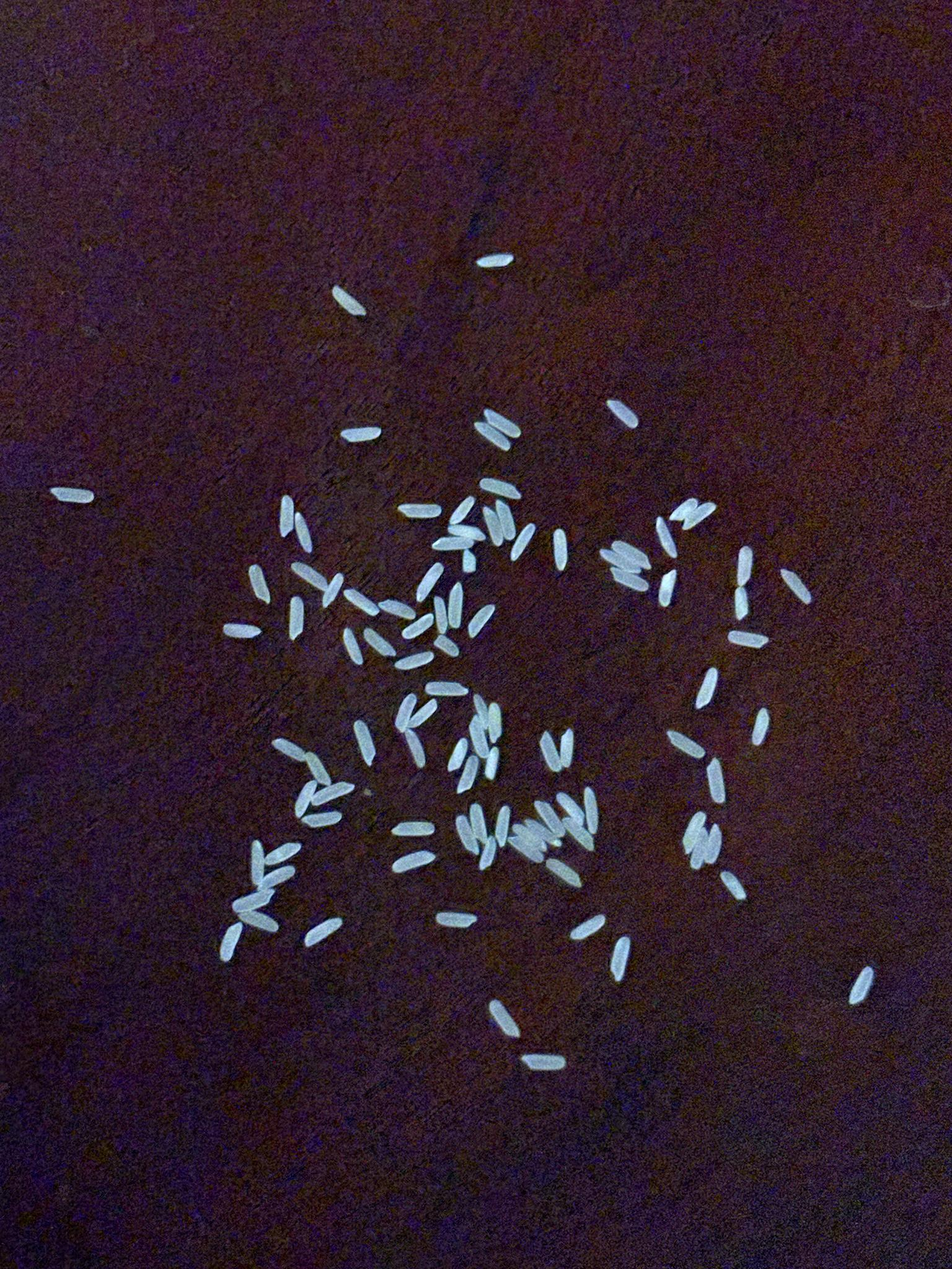Rice-th-y-nh: (489, 1000, 520, 1038), (535, 800, 565, 838), (303, 918, 342, 947), (474, 422, 512, 451), (613, 540, 651, 569), (416, 563, 444, 602), (562, 817, 594, 851), (781, 569, 812, 604), (546, 858, 582, 888), (668, 730, 705, 759), (484, 409, 521, 438), (291, 562, 328, 590), (312, 782, 355, 806), (695, 667, 719, 709), (332, 286, 365, 316), (354, 720, 376, 765), (510, 523, 536, 561), (467, 604, 496, 638), (682, 501, 716, 530), (238, 909, 279, 933), (599, 549, 640, 573), (509, 836, 545, 863), (682, 812, 706, 852), (849, 967, 874, 1005), (232, 890, 275, 912), (655, 517, 678, 558), (610, 567, 649, 591), (525, 819, 561, 845), (607, 399, 639, 428), (258, 866, 295, 891), (557, 792, 585, 825), (468, 714, 489, 758), (456, 815, 479, 855), (345, 589, 379, 616), (392, 851, 435, 872), (570, 915, 606, 940), (364, 628, 395, 657), (407, 700, 438, 729), (220, 923, 243, 962), (540, 732, 562, 772), (610, 937, 630, 981), (294, 780, 317, 818), (248, 565, 271, 603), (517, 823, 547, 852), (457, 756, 480, 793), (265, 842, 302, 865), (306, 752, 331, 786), (480, 478, 520, 499), (404, 729, 426, 767), (394, 694, 416, 732), (583, 787, 601, 833), (704, 823, 724, 864), (402, 614, 434, 639), (272, 738, 306, 761), (496, 500, 516, 539), (707, 759, 725, 802), (322, 573, 344, 608), (447, 583, 464, 628), (396, 651, 434, 671), (484, 507, 504, 545), (690, 830, 709, 870), (288, 595, 305, 639), (343, 628, 363, 665), (728, 630, 769, 648), (552, 529, 570, 570), (449, 497, 475, 525), (721, 871, 746, 900), (448, 523, 486, 542), (469, 804, 488, 842), (294, 513, 312, 553), (522, 1054, 566, 1070), (751, 708, 770, 745), (250, 840, 265, 886), (380, 600, 416, 619), (670, 498, 698, 522), (52, 487, 94, 503), (279, 495, 295, 537), (425, 681, 467, 697), (659, 570, 677, 607), (436, 912, 477, 928), (399, 503, 442, 518), (302, 812, 342, 828), (433, 536, 475, 551), (392, 821, 434, 836), (448, 738, 467, 771), (342, 427, 381, 443), (737, 547, 753, 586), (559, 729, 575, 768), (479, 836, 497, 870), (495, 806, 510, 846), (487, 703, 502, 742), (434, 634, 459, 657), (223, 623, 260, 638), (476, 253, 513, 268), (484, 747, 500, 780), (474, 695, 490, 727), (734, 587, 749, 620), (434, 597, 447, 633), (462, 550, 477, 573)
